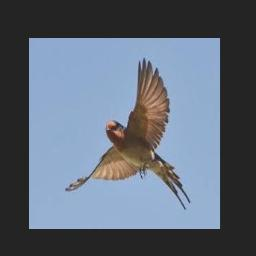Swallow: (64, 58, 190, 210)
